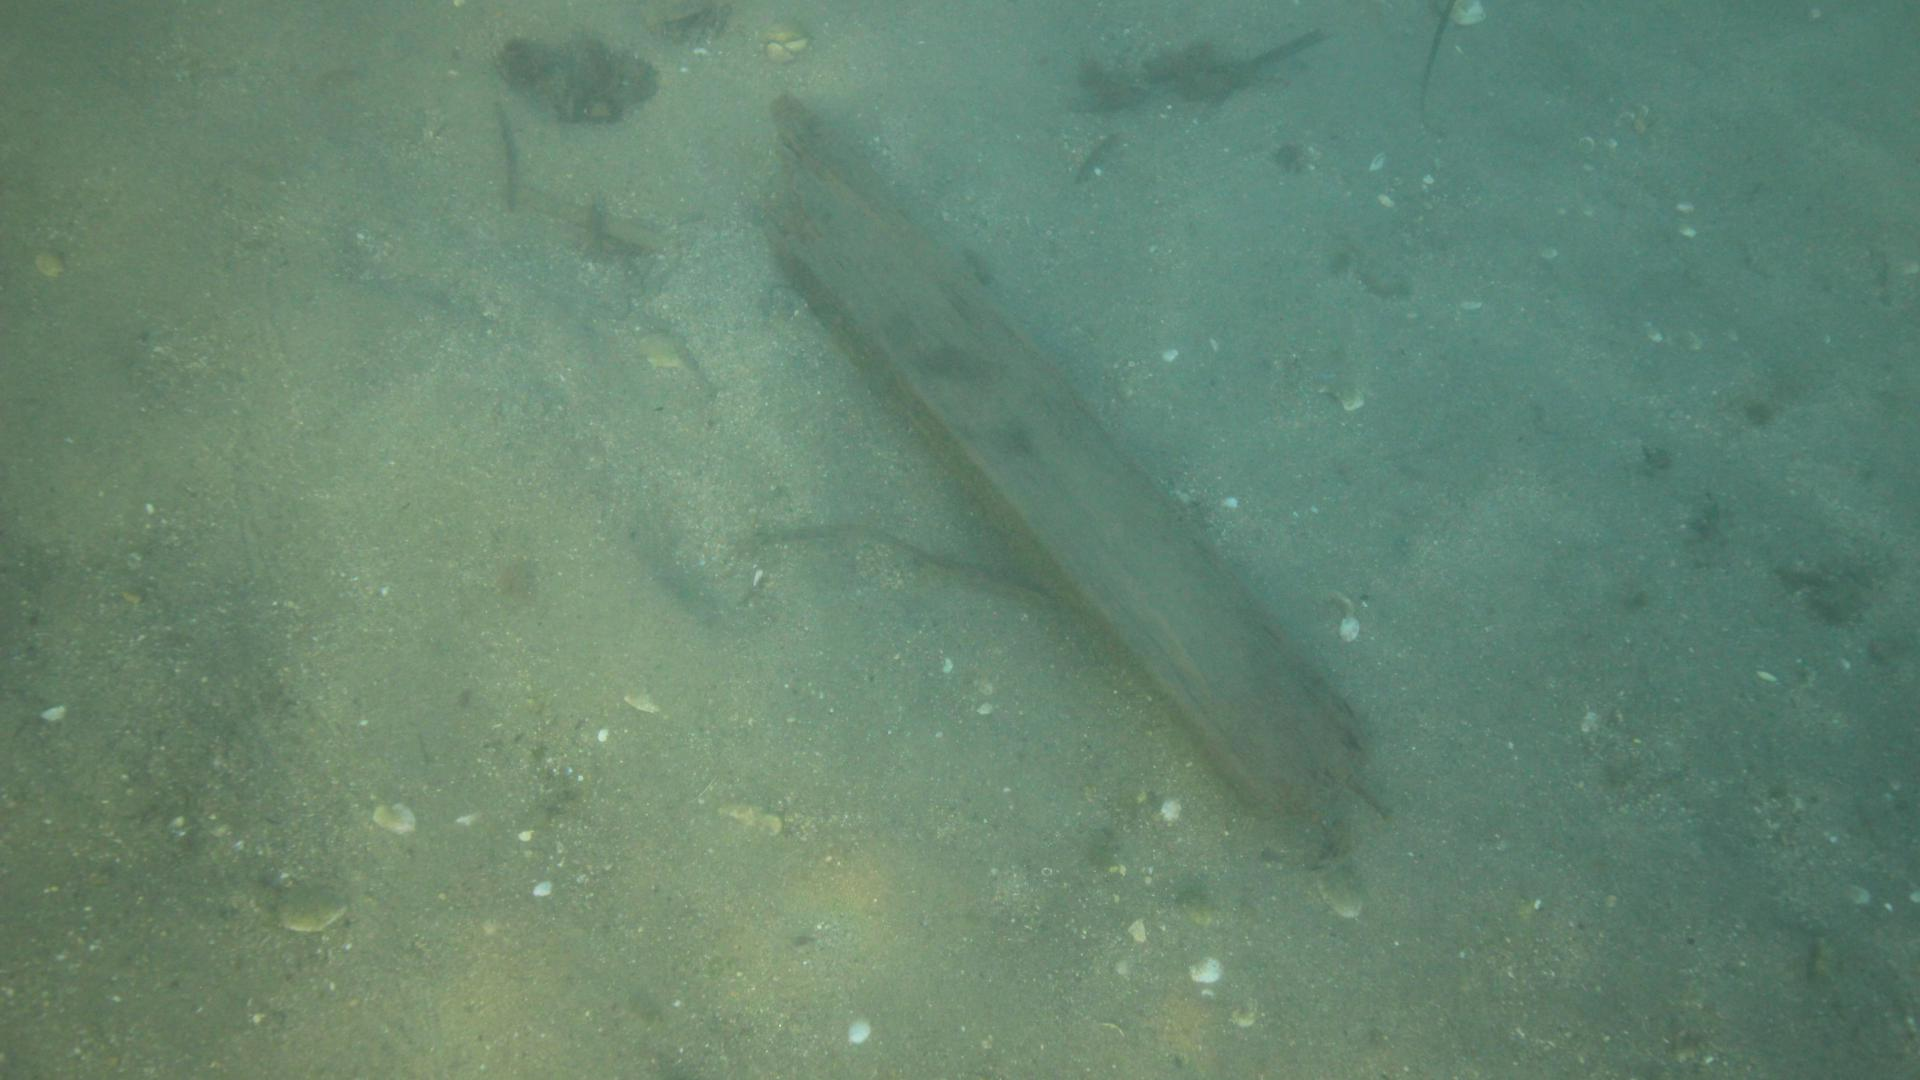wood: (760, 90, 1365, 818)
